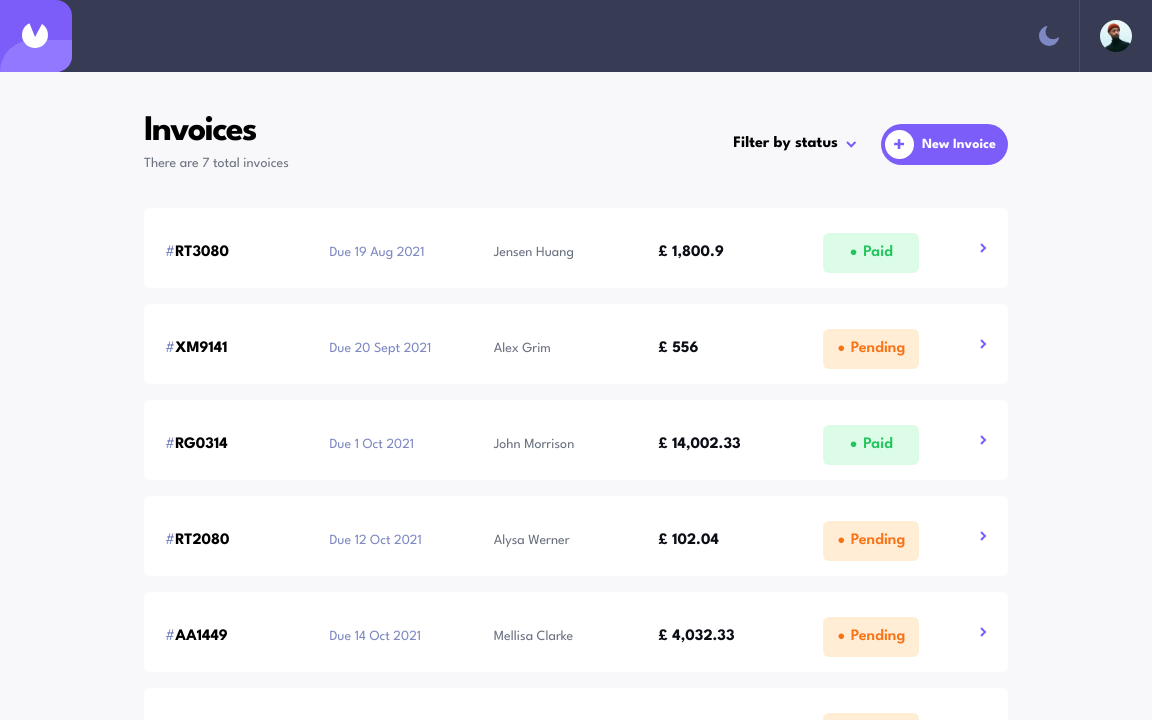
main page › should open the filter-ul when clicked filter-btn
This screenshot has width=1152, height=720.
Click the button with test id "filter-btn". click: {"x": 795, "y": 144}
box: x1=733 y1=132 x2=857 y2=156
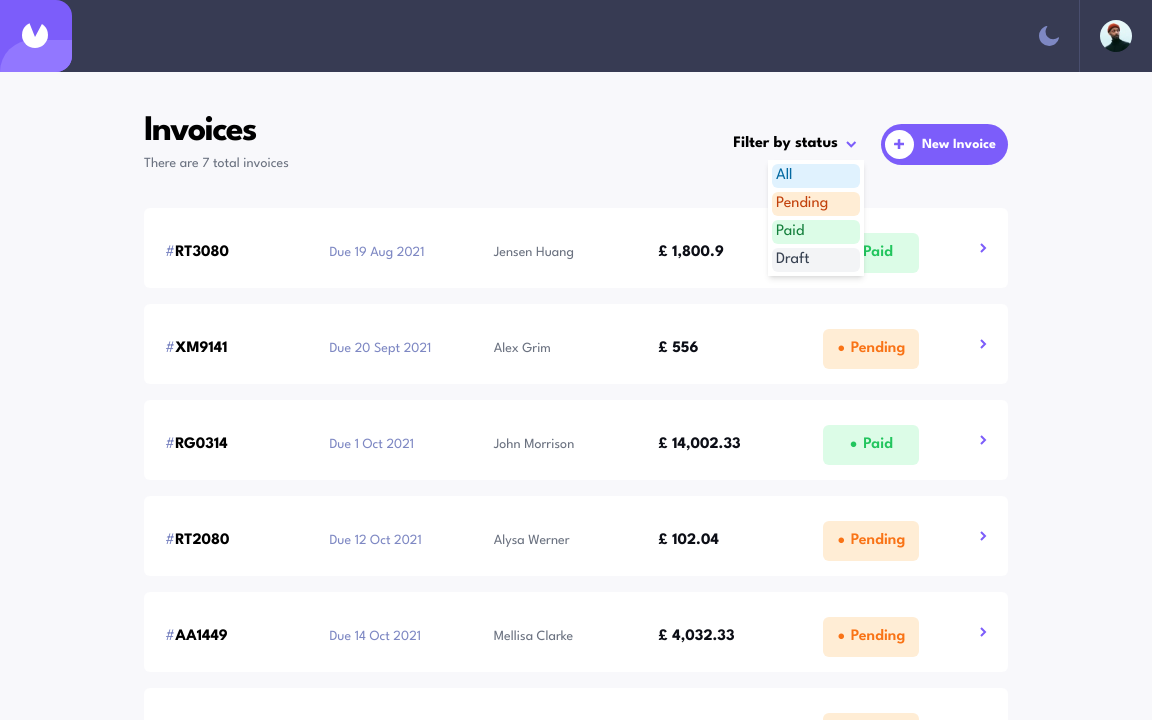
Expected: the list with test id "filter-ul" is shown, x1=768 y1=160 x2=864 y2=276
